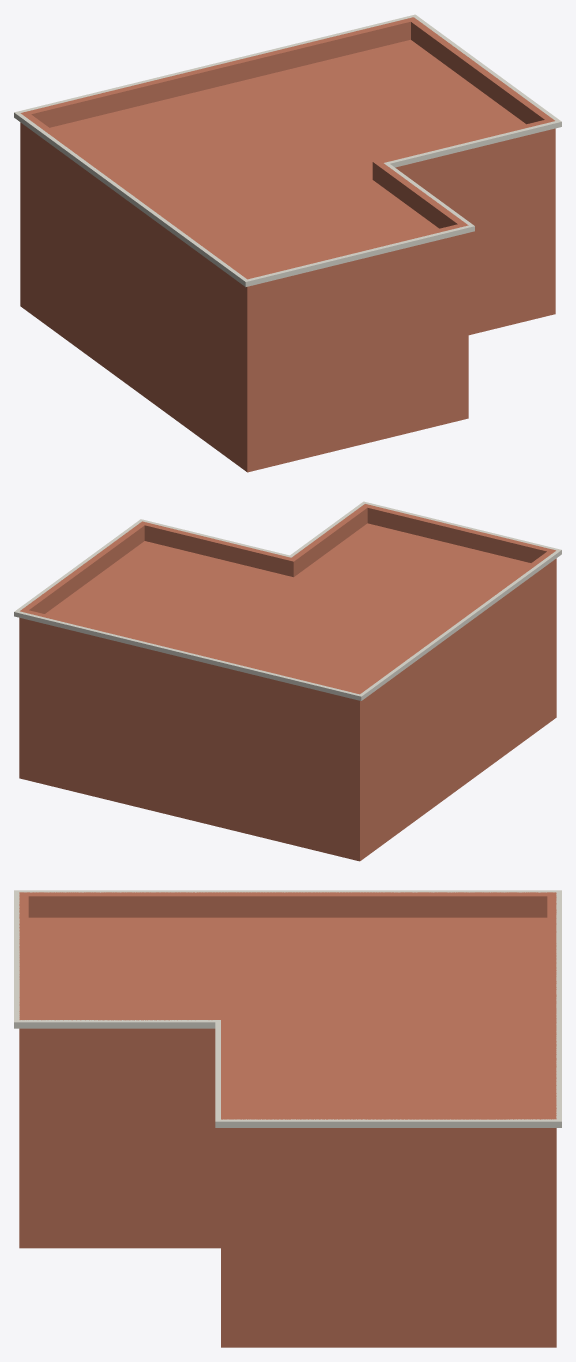
File: building.glb
The picture shows the model from 3 angles, top to bottom: view 1: azimuth 30°, elevation 25°; view 2: azimuth 150°, elevation 25°; view 3: azimuth 270°, elevation 25°; orthographic projection. The views are drawn at different scales.
Parts seen in each view (by area): view 1: roof/body:0/roof_slab#0001, body:0/edge0/z0/body:0/edge0/z0/wall_0_0, body:0/edge5/z0/body:0/edge5/z0/wall_0_0, roof/body:0/parapet#0001, body:0/edge2/z0/body:0/edge2/z0/wall_0_0, trim/cornice/0/trim_cornice#0001, body:0/edge3/z0/body:0/edge3/z0/wall_0_0, body:0/edge4/z0/body:0/edge4/z0/wall_0_0; view 2: body:0/edge4/z0/body:0/edge4/z0/wall_0_0, roof/body:0/roof_slab#0001, body:0/edge5/z0/body:0/edge5/z0/wall_0_0, roof/body:0/parapet#0001, trim/cornice/0/trim_cornice#0001, body:0/edge3/z0/body:0/edge3/z0/wall_0_0, body:0/edge0/z0/body:0/edge0/z0/wall_0_0; view 3: roof/body:0/roof_slab#0001, body:0/edge3/z0/body:0/edge3/z0/wall_0_0, body:0/edge1/z0/body:0/edge1/z0/wall_0_0, roof/body:0/parapet#0001, trim/cornice/0/trim_cornice#0001, body:0/edge0/z0/body:0/edge0/z0/wall_0_0, body:0/edge2/z0/body:0/edge2/z0/wall_0_0, body:0/edge4/z0/body:0/edge4/z0/wall_0_0, body:0/edge5/z0/body:0/edge5/z0/wall_0_0.
Part boxes in pixels (x1,y1,x2,y2): roof/body:0/roof_slab#0001: (20,40,555,305); body:0/edge0/z0/body:0/edge0/z0/wall_0_0: (241,244,468,472); body:0/edge5/z0/body:0/edge5/z0/wall_0_0: (20,134,257,471); roof/body:0/parapet#0001: (20,17,555,297); body:0/edge2/z0/body:0/edge2/z0/wall_0_0: (406,139,555,335); trim/cornice/0/trim_cornice#0001: (14,14,561,286); body:0/edge3/z0/body:0/edge3/z0/wall_0_0: (408,40,555,316); body:0/edge4/z0/body:0/edge4/z0/wall_0_0: (20,40,410,309); body:0/edge4/z0/body:0/edge4/z0/wall_0_0: (19,627,364,861); roof/body:0/roof_slab#0001: (19,525,556,717); body:0/edge5/z0/body:0/edge5/z0/wall_0_0: (351,570,556,860); roof/body:0/parapet#0001: (19,504,556,709); trim/cornice/0/trim_cornice#0001: (14,501,561,700); body:0/edge3/z0/body:0/edge3/z0/wall_0_0: (19,542,144,780); body:0/edge0/z0/body:0/edge0/z0/wall_0_0: (366,523,556,720); roof/body:0/roof_slab#0001: (28,917,556,1151); body:0/edge3/z0/body:0/edge3/z0/wall_0_0: (221,1141,556,1347); body:0/edge1/z0/body:0/edge1/z0/wall_0_0: (19,1041,220,1248); roof/body:0/parapet#0001: (19,892,556,1140); trim/cornice/0/trim_cornice#0001: (14,890,561,1127); body:0/edge0/z0/body:0/edge0/z0/wall_0_0: (19,918,32,1248); body:0/edge2/z0/body:0/edge2/z0/wall_0_0: (221,1041,234,1347); body:0/edge4/z0/body:0/edge4/z0/wall_0_0: (543,917,556,1347); body:0/edge5/z0/body:0/edge5/z0/wall_0_0: (30,917,543,919).
Size of the model in its own units: 8.16 by 3.75 by 8.16.
